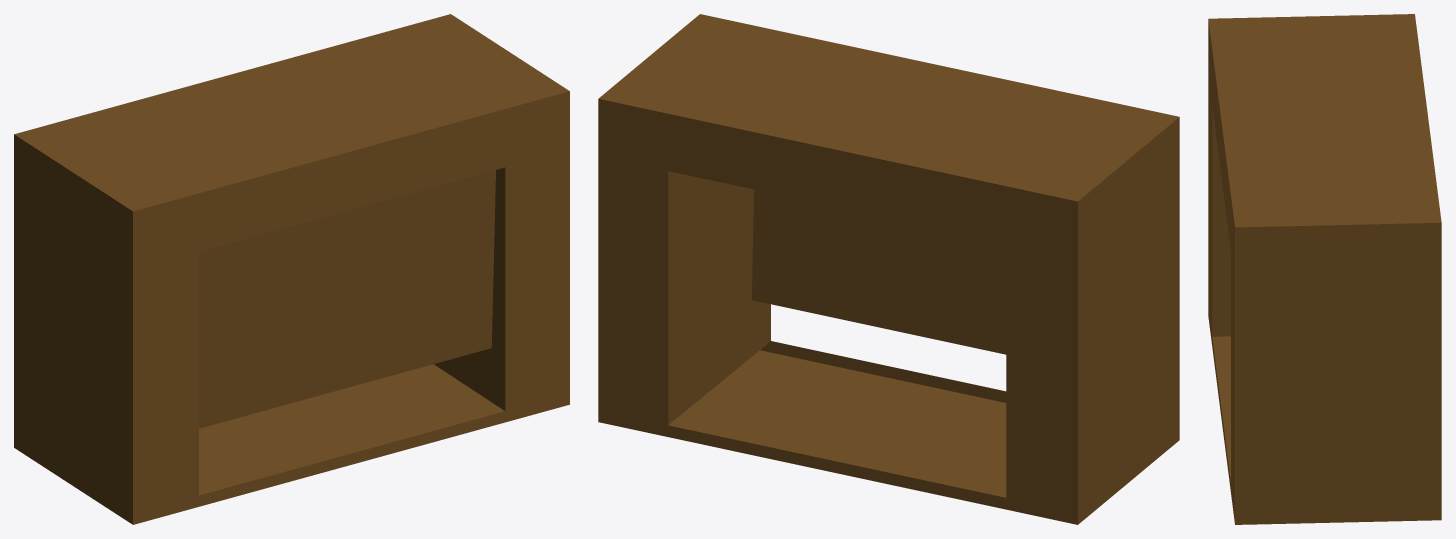
File: EscritorioMaestro.fbx
The picture shows the model from 3 angles, left to right: view 1: azimuth 30°, elevation 25°; view 2: azimuth 150°, elevation 25°; view 3: azimuth 270°, elevation 25°; orthographic projection. The views are drawn at different scales.
Visible parts, largest first — view 1: Escritorio; view 2: Escritorio; view 3: Escritorio.
Boxes of the visible parts, x1,y1,x2,y2 form: Escritorio: (14,14,569,524); Escritorio: (598,14,1179,524); Escritorio: (1208,14,1441,524).
Size of the model in its own units: 346 by 225 by 160.
